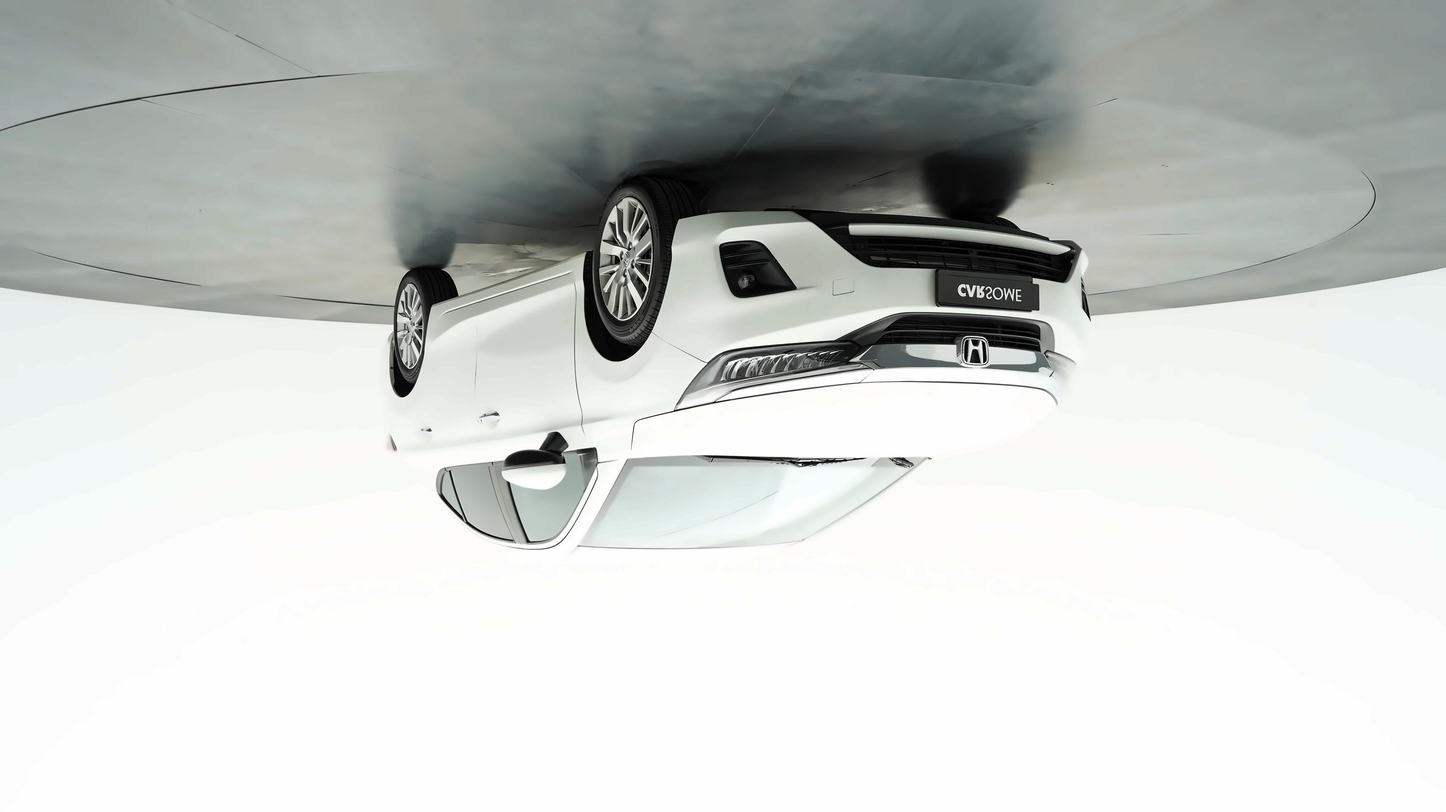Car hood: (628, 378, 1061, 462)
Fender - -F-L-: (573, 252, 709, 466)
Fender - -R-L-: (389, 303, 431, 446)
Front bumper: (651, 204, 1098, 362)
Headlight - -L-: (669, 336, 881, 413)
Headlight - -R-: (1035, 346, 1081, 396)
Passenger-s door - -F-L-: (475, 273, 582, 546)
Passenger-s door - -R-L-: (405, 296, 516, 546)
Rear light - -L-: (381, 424, 400, 459)
Side bumper - -L-: (424, 241, 600, 325)
Side mirror - -L-: (497, 426, 576, 496)
